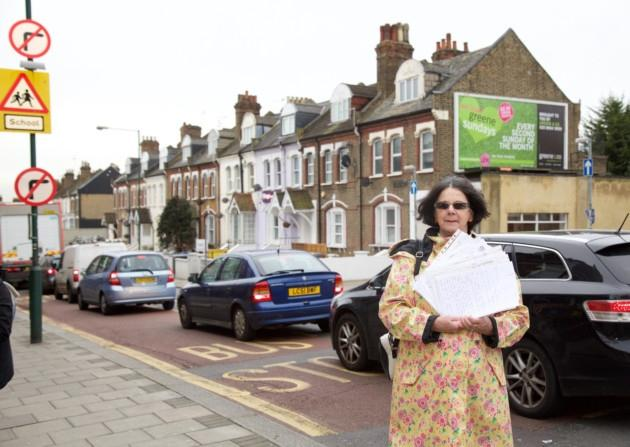no_right_turn: (6, 18, 50, 58), (13, 167, 55, 205)
